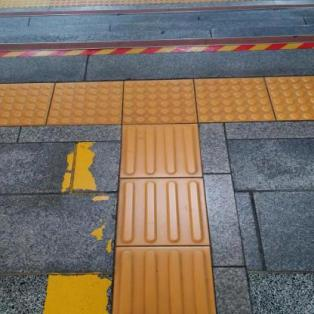Podoctatil: (112, 125, 218, 313), (1, 77, 313, 126)
